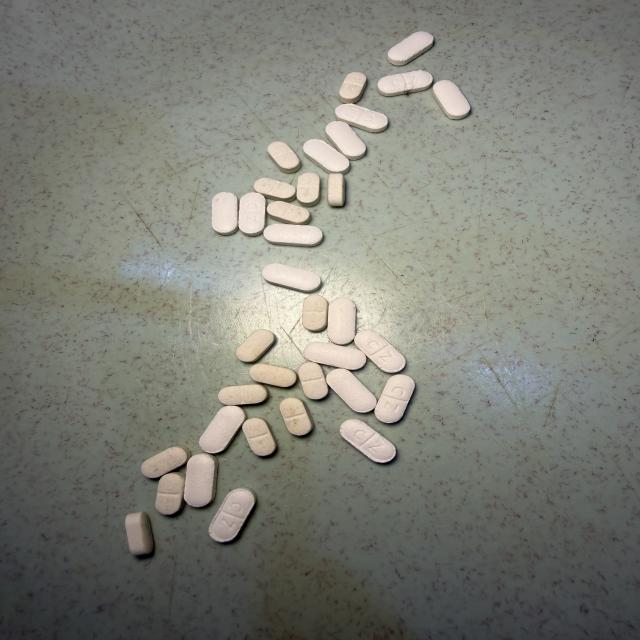pill: (209, 488, 256, 542), (340, 419, 396, 463), (355, 330, 405, 373), (327, 369, 376, 412), (375, 375, 414, 423), (185, 454, 217, 507), (304, 342, 366, 369), (262, 264, 321, 292), (303, 139, 350, 173), (326, 121, 366, 159), (141, 447, 190, 478), (388, 32, 433, 65), (433, 80, 470, 119), (378, 70, 433, 96), (336, 105, 388, 132), (328, 298, 356, 345), (264, 224, 323, 246), (236, 329, 275, 362), (280, 398, 313, 436), (243, 418, 276, 456), (238, 192, 266, 236), (156, 473, 185, 515), (126, 512, 153, 555), (298, 362, 328, 399), (212, 193, 238, 235), (249, 364, 296, 387), (218, 385, 268, 405), (268, 142, 300, 173), (267, 201, 310, 224), (254, 178, 295, 201), (302, 295, 328, 331), (339, 72, 366, 103), (297, 173, 319, 206), (327, 173, 346, 207), (251, 385, 258, 386)
